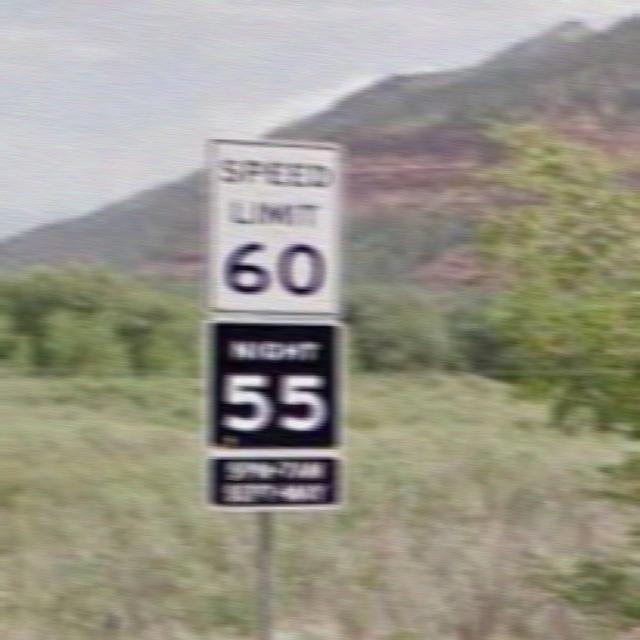speedLimit60: (206, 132, 350, 322)
